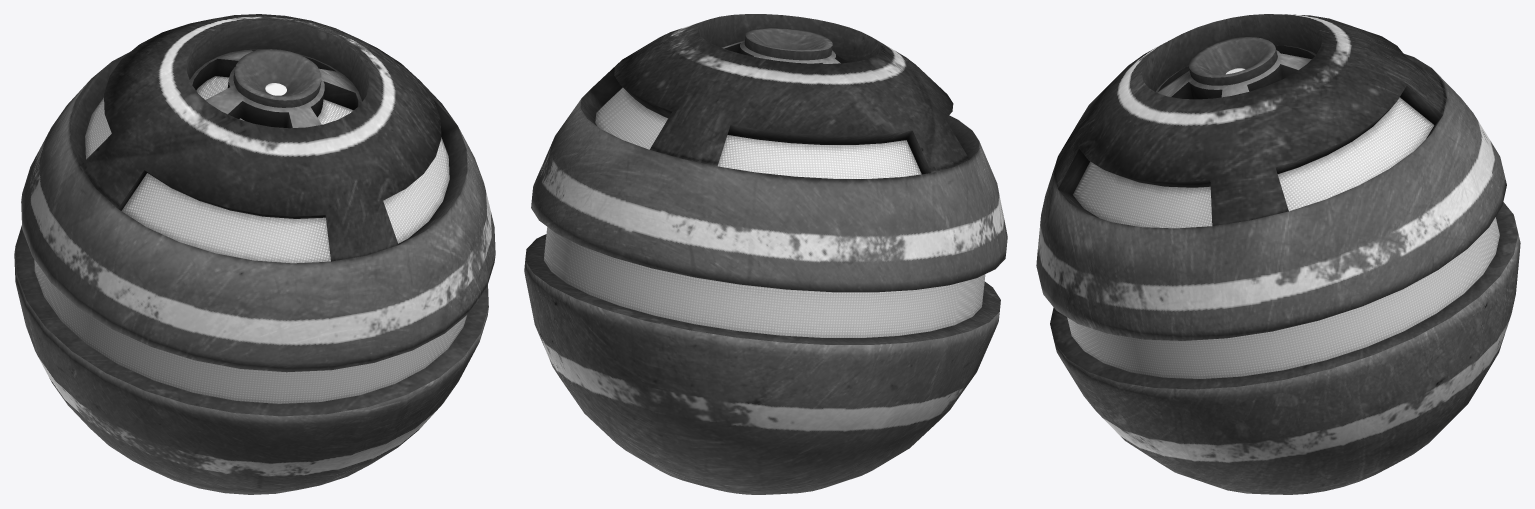
The model's file is bomb.fbx.
The picture shows the model from 3 angles, left to right: view 1: azimuth 30°, elevation 25°; view 2: azimuth 150°, elevation 25°; view 3: azimuth 270°, elevation 25°; orthographic projection.
Visible parts, largest first — view 1: Body, Glow; view 2: Body, Glow; view 3: Body, Glow.
Boxes of the visible parts, x1,y1,x2,y2 form: Body: (14, 14, 495, 494); Glow: (34, 76, 466, 403); Body: (524, 14, 1007, 494); Glow: (544, 87, 985, 337); Body: (1036, 14, 1520, 494); Glow: (1067, 68, 1499, 378).
Size of the model in its own units: 1.98 by 1.98 by 2.01.
